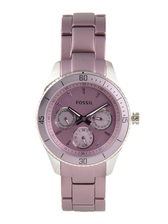watch: (32, 12, 143, 214)
